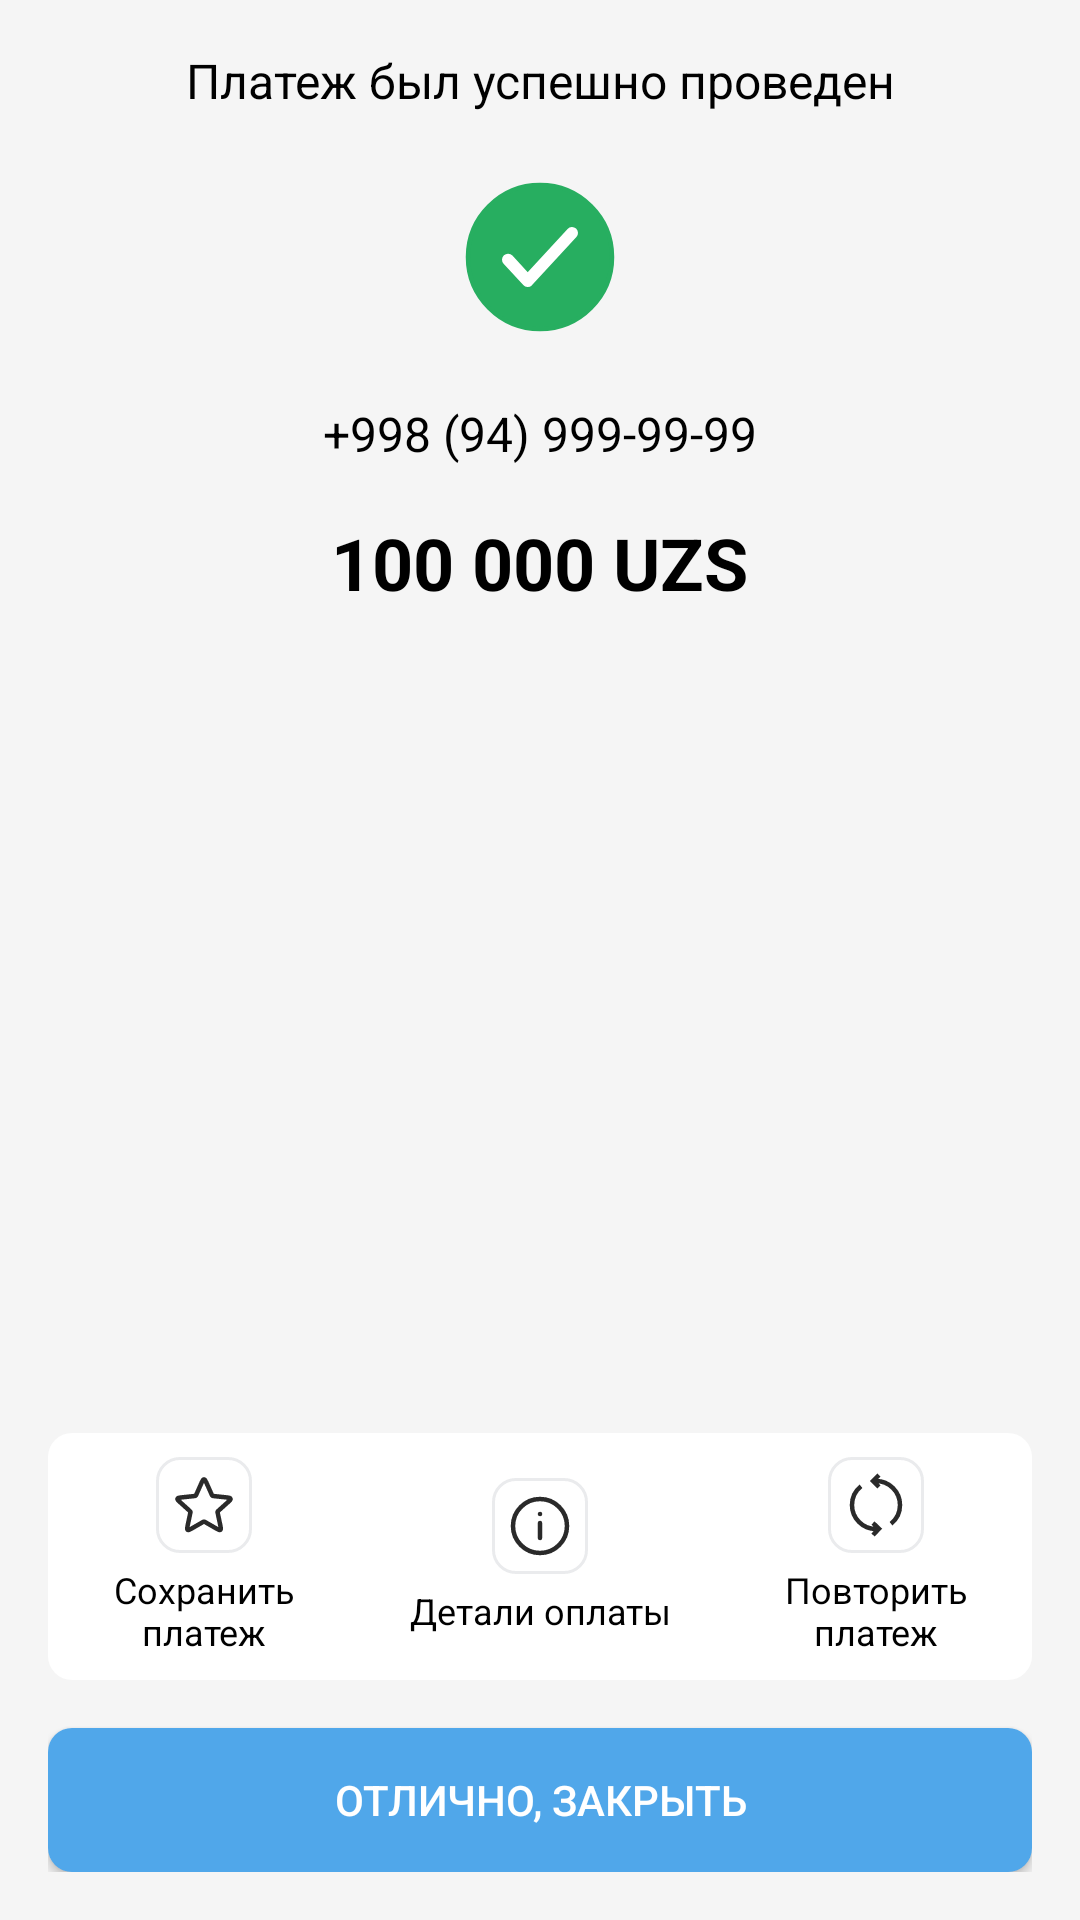

Named icons in this screenshot (1080px x 1920px) and their centers, point (x, y):
circle check: point (540, 257)
detail: point (540, 1526)
oplata save: point (204, 1505)
